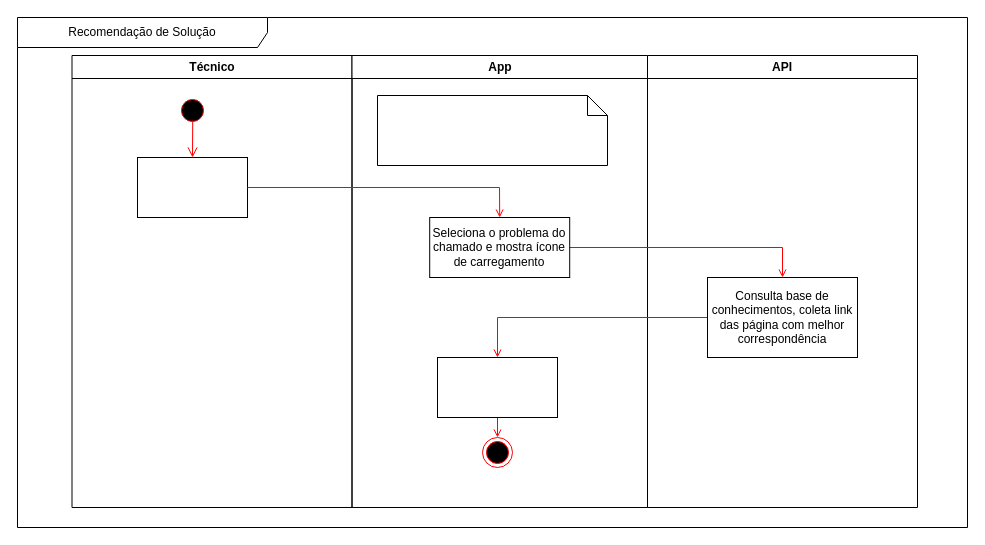
Some shapes in this 985 by 545 pixel diagram are drawn without their labels. Here are the shapes that lost their labels. From the top down, the centre of each, then its label:
pixel 492 130: <<Precondição>> Ter executado "Registro de novo chamado"
pixel 192 187: Clica na opção de sugestão de soluções
pixel 497 387: Exibe listagem das melhores soluções previstas
